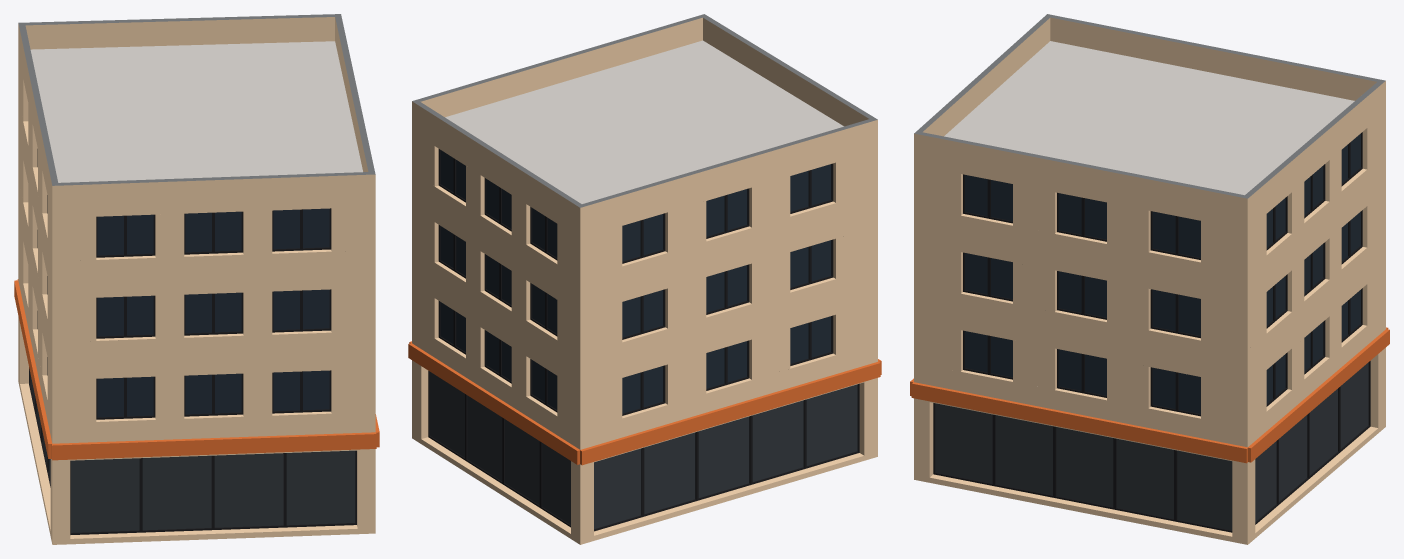
Rendered from brick611.glb.
3 renders of one model, left to right at view 1: azimuth 30°, elevation 25°; view 2: azimuth 150°, elevation 25°; view 3: azimuth 270°, elevation 25°, orthographic. The views are drawn at different scales.
Visible parts, largest first — view 1: brick611; view 2: brick611; view 3: brick611.
Boxes of the visible parts, bbox=[...] form: brick611: bbox=[14, 14, 379, 544]; brick611: bbox=[408, 14, 881, 544]; brick611: bbox=[910, 14, 1389, 544].
Bounding box in the file's own units: 15.49 × 13.3 × 16.7.
